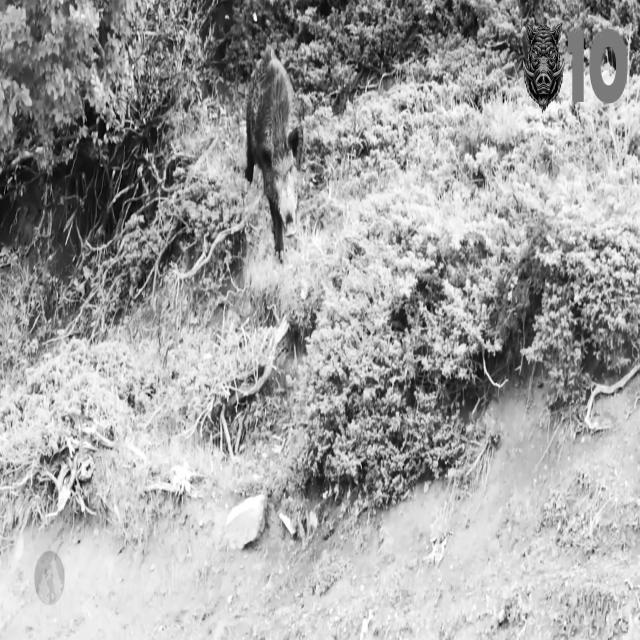boar: (245, 45, 302, 260)
